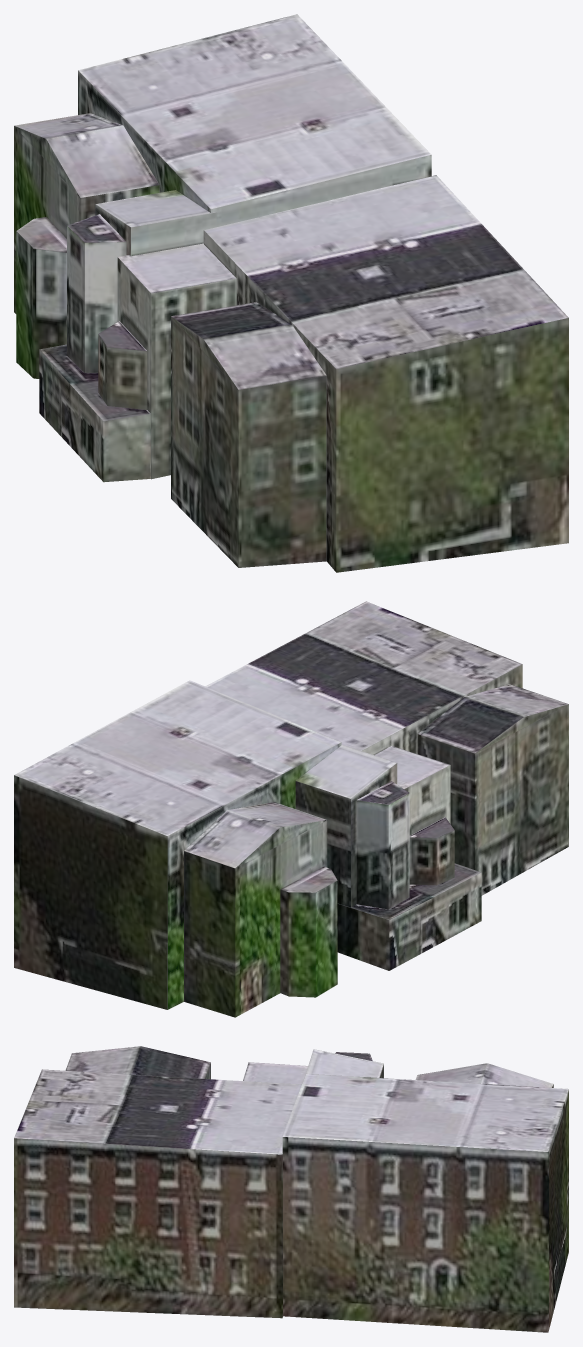
File: Buildings_subset_79.dae
3 views of the same model, one above another, from view 1: azimuth 30°, elevation 25°; view 2: azimuth 150°, elevation 25°; view 3: azimuth 270°, elevation 25° (orthographic). The views are drawn at different scales.
Parts seen in each view (by area): view 1: Buildings_subset_79.dae (×17); view 2: Buildings_subset_79.dae (×18); view 3: Buildings_subset_79.dae (×4).
Boxes of the visible parts, left/top/right/bottom form: Buildings_subset_79.dae (×17): left=14, top=14, right=568, bottom=572; Buildings_subset_79.dae (×18): left=14, top=601, right=568, bottom=1017; Buildings_subset_79.dae (×4): left=14, top=1046, right=568, bottom=1332.
Size of the model in its own units: 61.34 by 101 by 37.36.
1 material, 1 textured.
